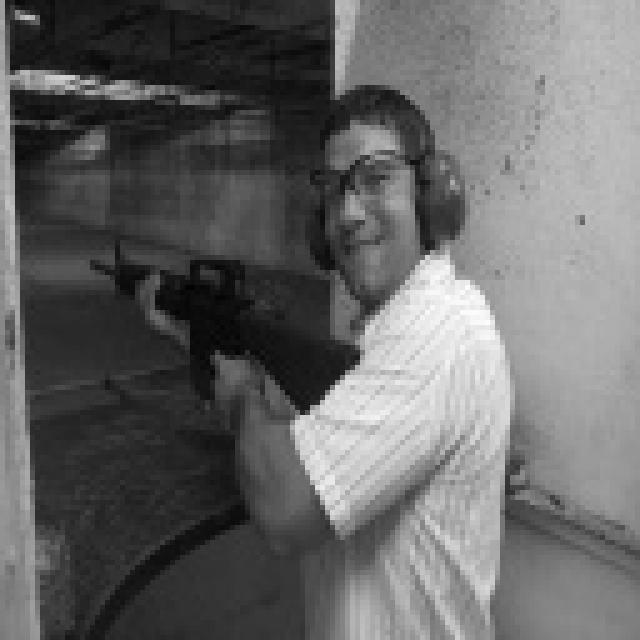Rifle: (73, 232, 404, 420)
